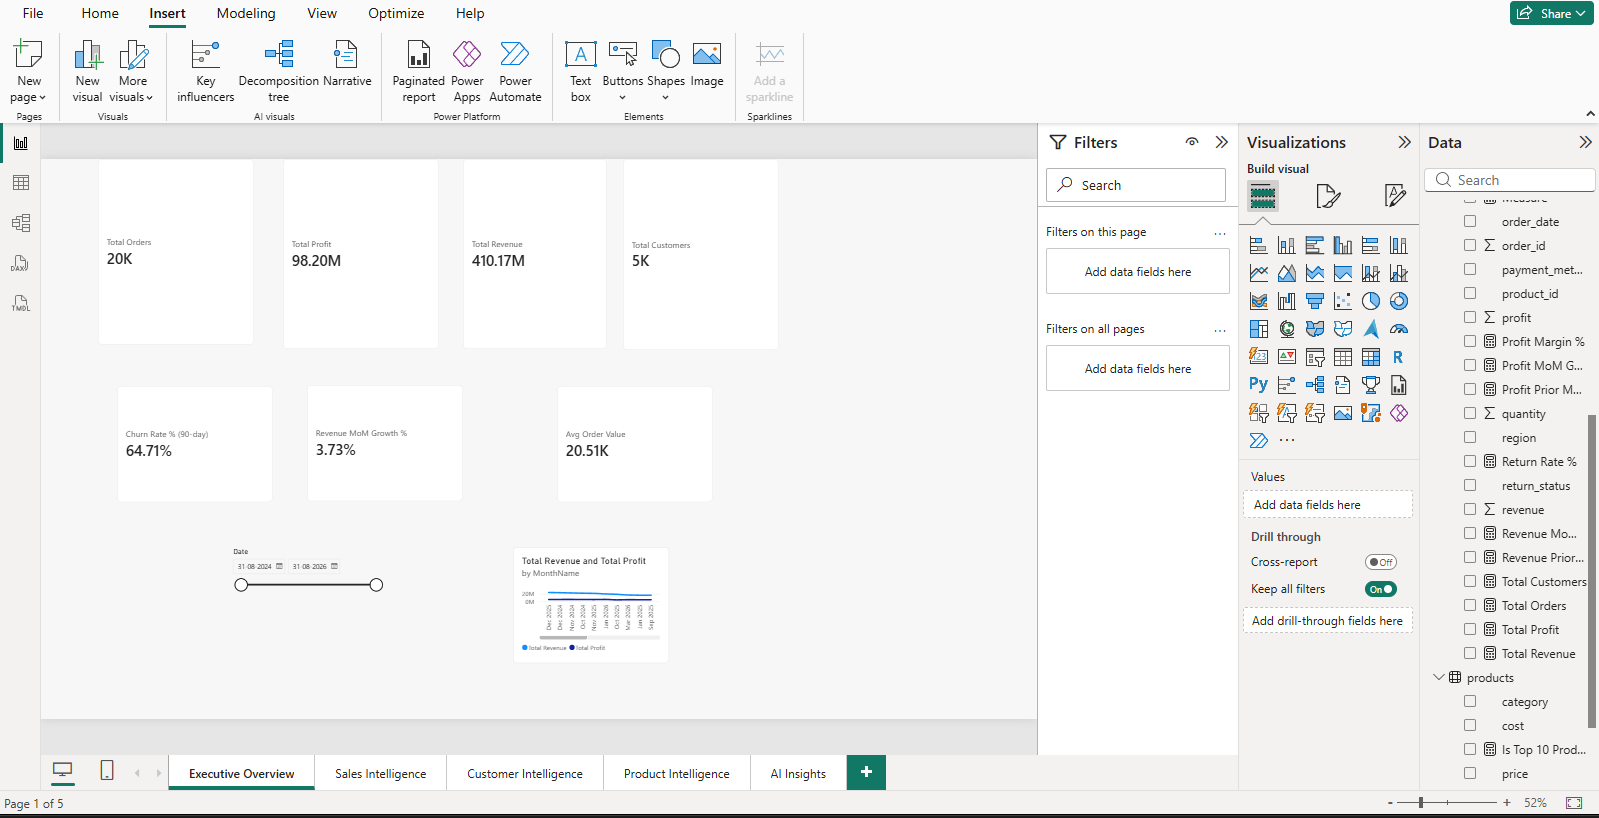

Layout of this report page (visuals, bound fields, positions):
{"tool":"powerbi","page":{"name":"Executive Overview","canvas":[1920,1080],"ordinal":0},"visuals":[{"type":"cardVisual","fields":{"Data":["orders.Total Revenue"]},"box":[938.8,364.3,441.4,366.3],"z":0},{"type":"cardVisual","fields":{"Data":["orders.Total Customers"]},"box":[1420.7,364.3,300.7,368.2],"z":1},{"type":"cardVisual","fields":{"Data":["orders.Total Profit"]},"box":[616.9,356.6,300.7,366.3],"z":2},{"type":"cardVisual","fields":{"Data":["orders.Total Orders"]},"box":[260.2,364.3,300.7,358.6],"z":3},{"type":"cardVisual","fields":{"Data":["orders.Avg Order Value"]},"box":[1422.7,86.7,300,224],"z":4},{"type":"cardVisual","fields":{"Data":["orders.Revenue MoM Growth %"]},"box":[1039,86.7,300,224],"z":5},{"type":"cardVisual","fields":{"Data":["customers.Churn Rate % (90-day)"]},"box":[638.1,86.7,300,224],"z":6},{"type":"lineChart","fields":{"Category":["DateTable.MonthName"],"Y":["orders.Total Revenue","orders.Total Profit"]},"box":[260.2,86.7,300,224],"z":7},{"type":"slicer","fields":{"Values":["DateTable.Date"]},"box":[260.2,771.1,300,224],"z":8}]}

Visuals, with their boxes on the page's 1920x1080 design canvas (x1, y1, x2, y2). These are canvas units, not pixel positions in the 1599x818 screenshot, which may show the page scaled, cropped or inside an application window:
cardVisual - orders.Total Revenue: [left=939, top=364, right=1380, bottom=731]
cardVisual - orders.Total Customers: [left=1421, top=364, right=1721, bottom=732]
cardVisual - orders.Total Profit: [left=617, top=357, right=918, bottom=723]
cardVisual - orders.Total Orders: [left=260, top=364, right=561, bottom=723]
cardVisual - orders.Avg Order Value: [left=1423, top=87, right=1723, bottom=311]
cardVisual - orders.Revenue MoM Growth %: [left=1039, top=87, right=1339, bottom=311]
cardVisual - customers.Churn Rate % (90-day): [left=638, top=87, right=938, bottom=311]
lineChart - DateTable.MonthName x orders.Total Revenue: [left=260, top=87, right=560, bottom=311]
slicer - DateTable.Date: [left=260, top=771, right=560, bottom=995]
